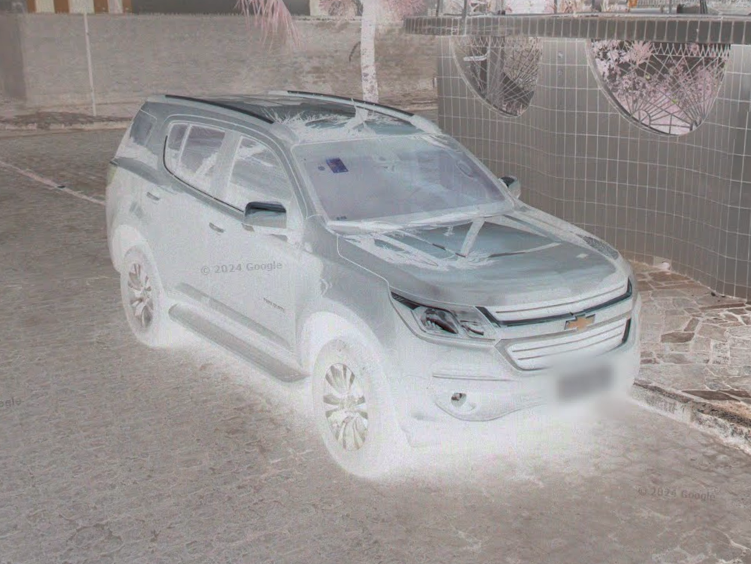car: (103, 87, 643, 476)
